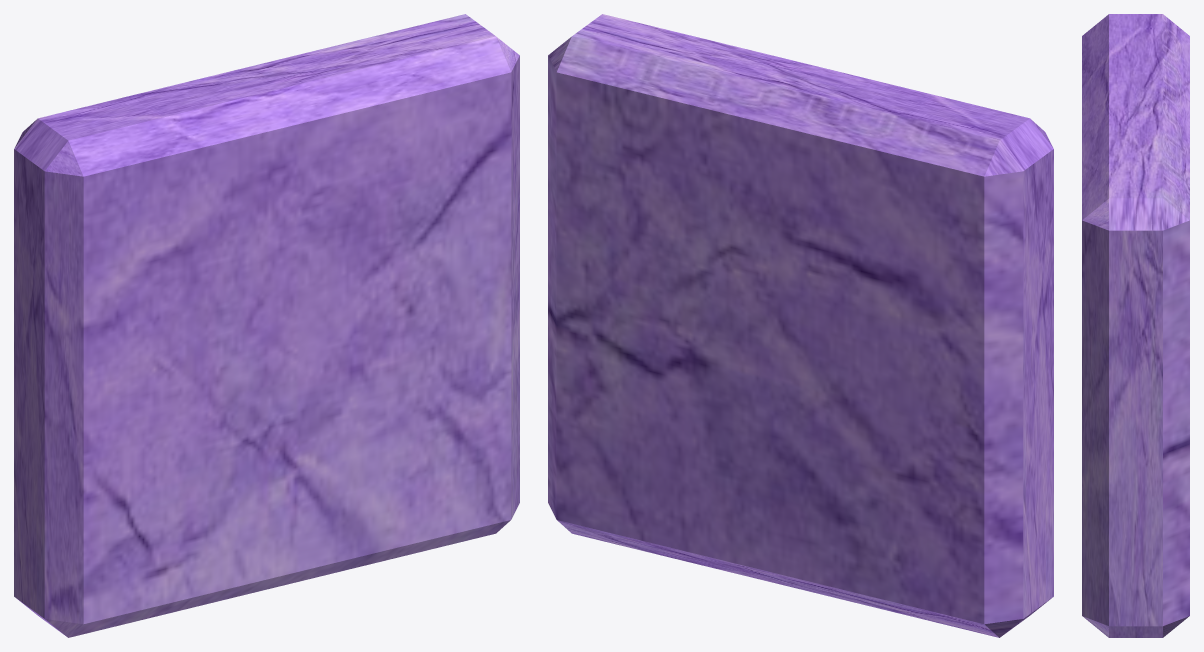
Rendered from libro3.obj.
The picture shows the model from 3 angles, left to right: view 1: azimuth 30°, elevation 25°; view 2: azimuth 150°, elevation 25°; view 3: azimuth 270°, elevation 25°; orthographic projection. The views are drawn at different scales.
Visible parts, largest first — view 1: pasted__pasted__pCube8 pasted__group group1; view 2: pasted__pasted__pCube8 pasted__group group1; view 3: pasted__pasted__pCube8 pasted__group group1.
Part boxes in pixels (bbox=[...]): pasted__pasted__pCube8 pasted__group group1: bbox=[14, 14, 519, 637]; pasted__pasted__pCube8 pasted__group group1: bbox=[548, 14, 1053, 637]; pasted__pasted__pCube8 pasted__group group1: bbox=[1082, 14, 1189, 637].
Size of the model in its own units: 0.9 by 0.9 by 0.2.
Materials: 1 (1 with a texture image).
